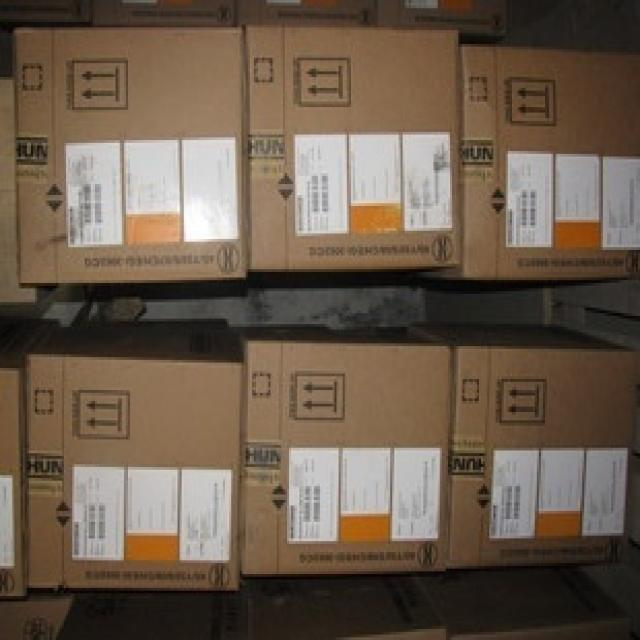box: (23, 320, 242, 590), (13, 30, 246, 283), (419, 321, 638, 571), (233, 322, 452, 569), (417, 48, 638, 281), (248, 27, 459, 271), (0, 316, 63, 599), (0, 53, 60, 304)
